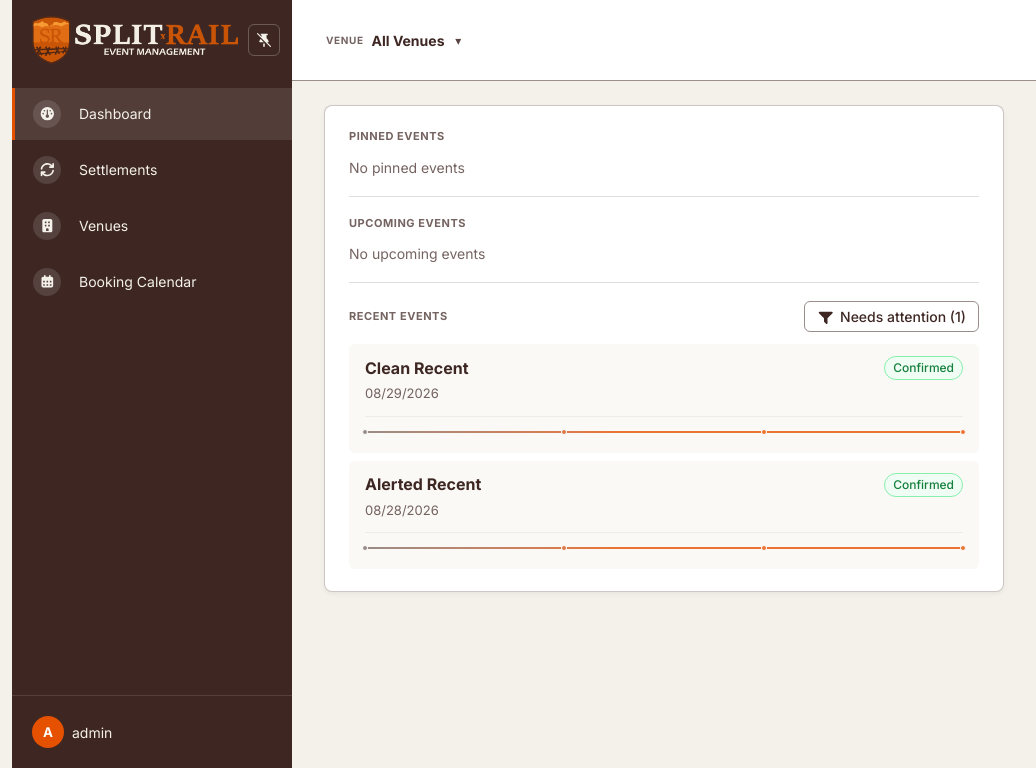
Test: DashboardOverviewPage › bottleneck filter › shows only recent events with bottleneck alerts when filter active
The image size is (1036, 768).
Check: the heading "Clean Recent" is shown, box 365,358 -> 468,378
Check: the heading "Alerted Recent" is shown, box 365,474 -> 481,495
Step 1. Click the button with test id "bottleneck-filter-toggle" → (891, 316), box 804,301 -> 979,332
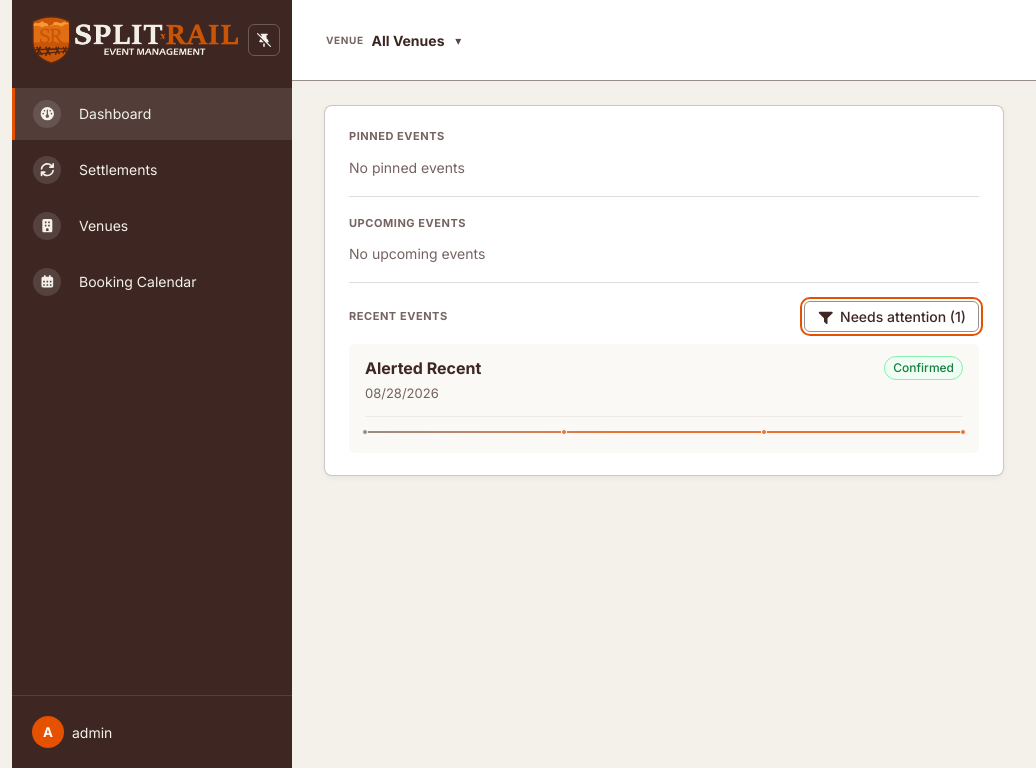
Check: the heading "Alerted Recent" is shown, box 365,358 -> 481,378
Check: the button "Clean Recent" is gone
